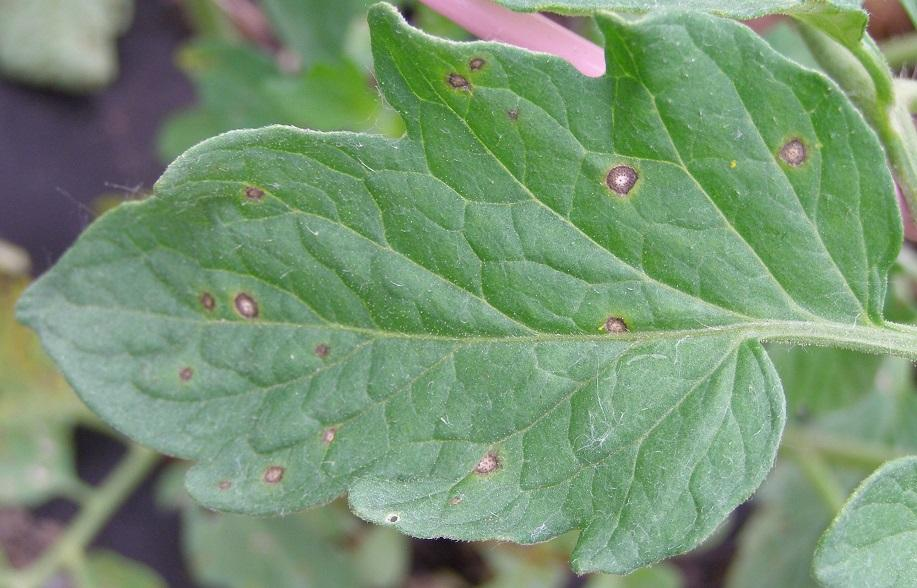Tomato leaf late blight: (10, 2, 901, 564)
